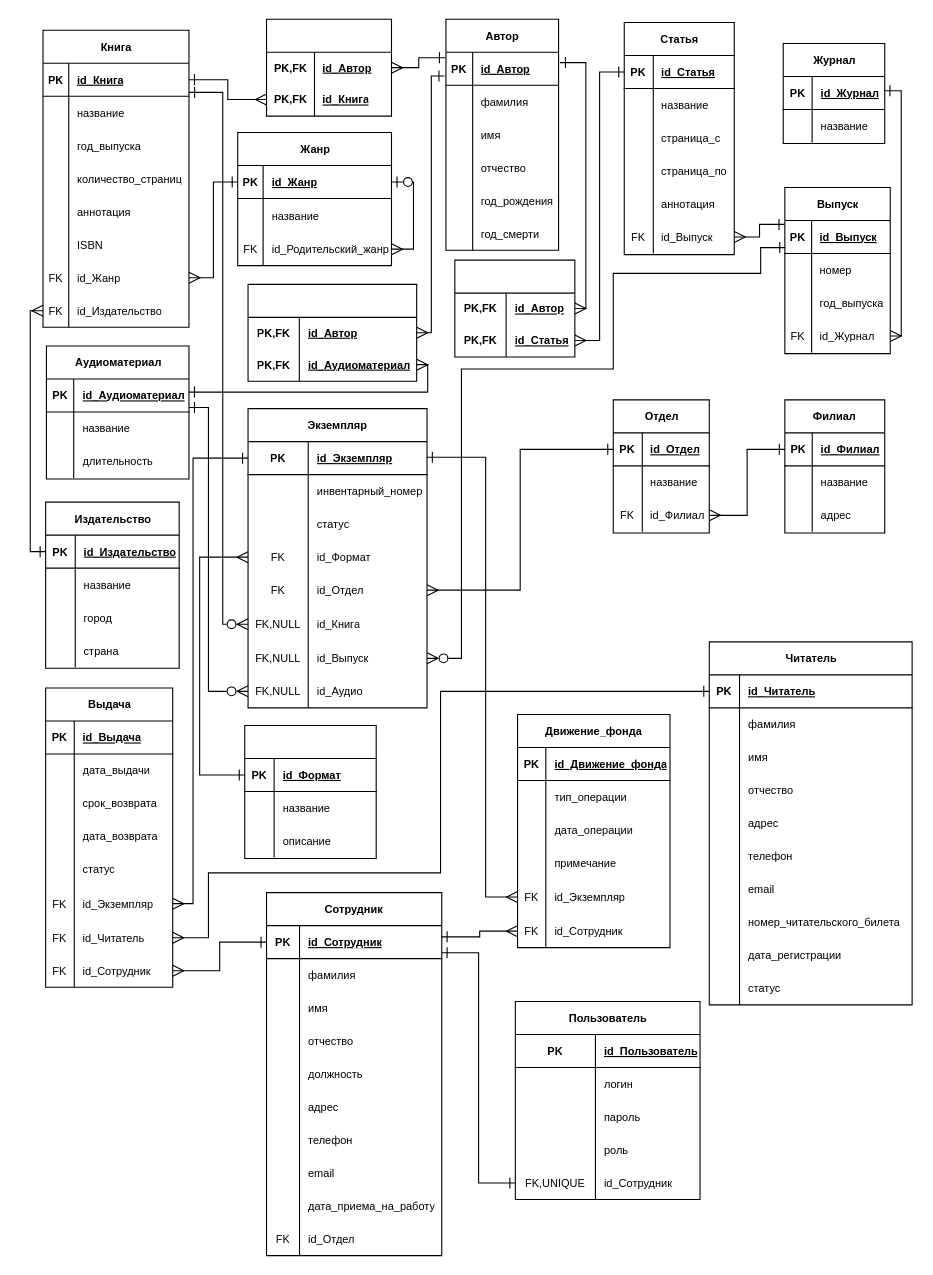
The diagram is 933 pixels wide and 1275 high, and some of its shapes have lost their labels. The shapes that lost their labels are listed below. From the top down, each one's box as (x1, y1, x2, y2) in pixels, then its label:
(265, 18, 391, 116): Автор_Книга
(454, 259, 575, 357): Автор_Статья
(247, 283, 417, 381): Автор_Аудиоматериал
(244, 724, 376, 859): Формат_хранения
